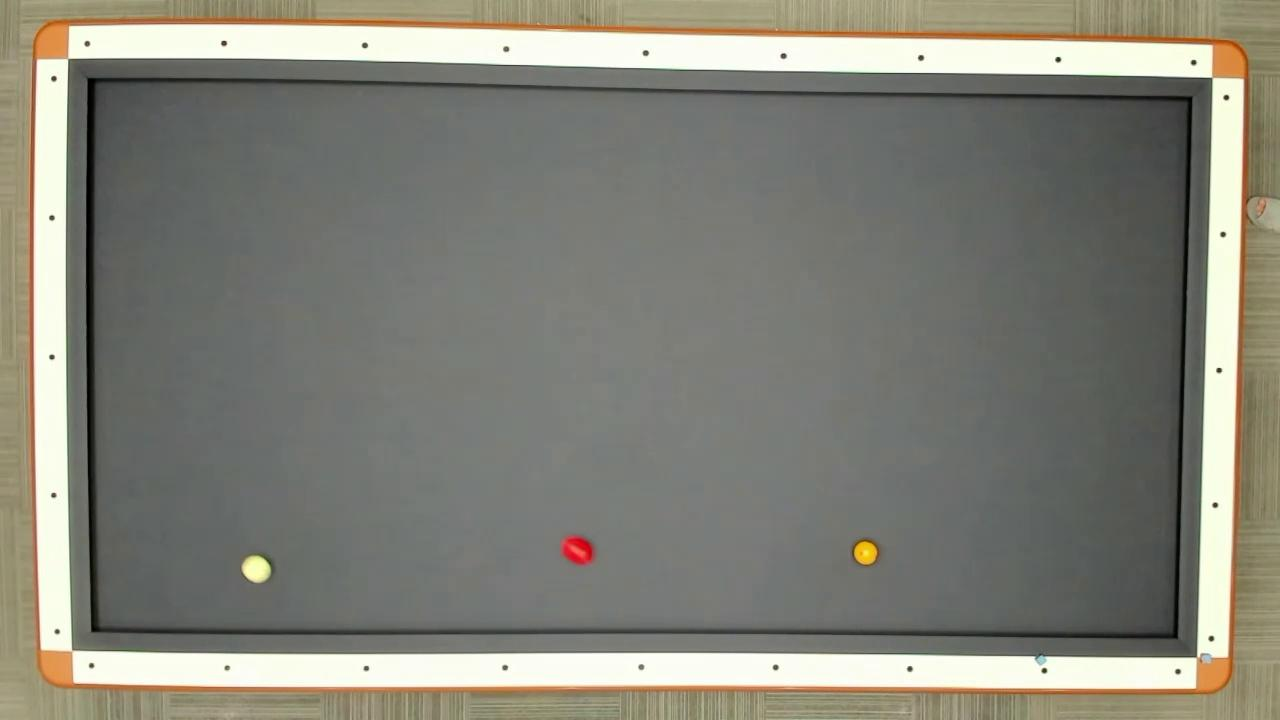Red: (558, 532, 596, 568)
White: (239, 554, 274, 586)
Yellow: (851, 538, 880, 567)
